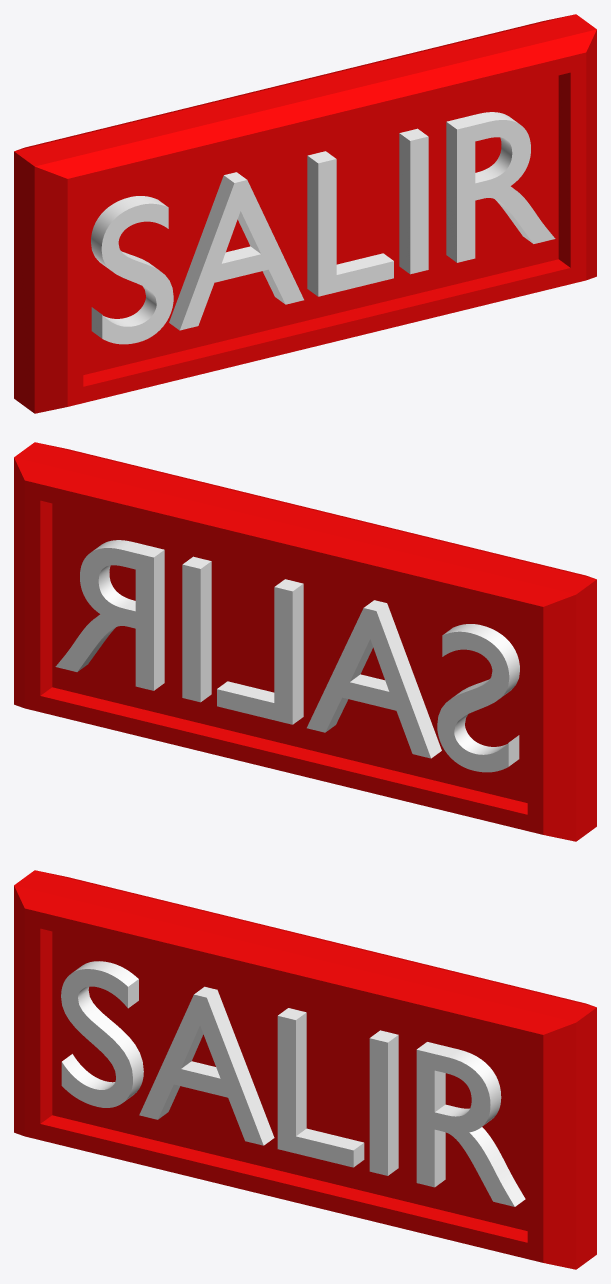
The model's file is btnSalir.fbx.
3 views of the same model, one above another, from view 1: azimuth 30°, elevation 25°; view 2: azimuth 150°, elevation 25°; view 3: azimuth 330°, elevation 25° (orthographic).
Visible parts, largest first — view 1: Cube, Text; view 2: Cube, Text; view 3: Cube, Text.
Part boxes in pixels (x1,y1,x2,y2): Cube: (14, 14, 596, 413); Text: (91, 112, 555, 344); Cube: (14, 442, 596, 841); Text: (55, 540, 519, 772); Cube: (14, 870, 596, 1269); Text: (61, 961, 525, 1206).
Size of the model in its own units: 602 by 253 by 79.61.
